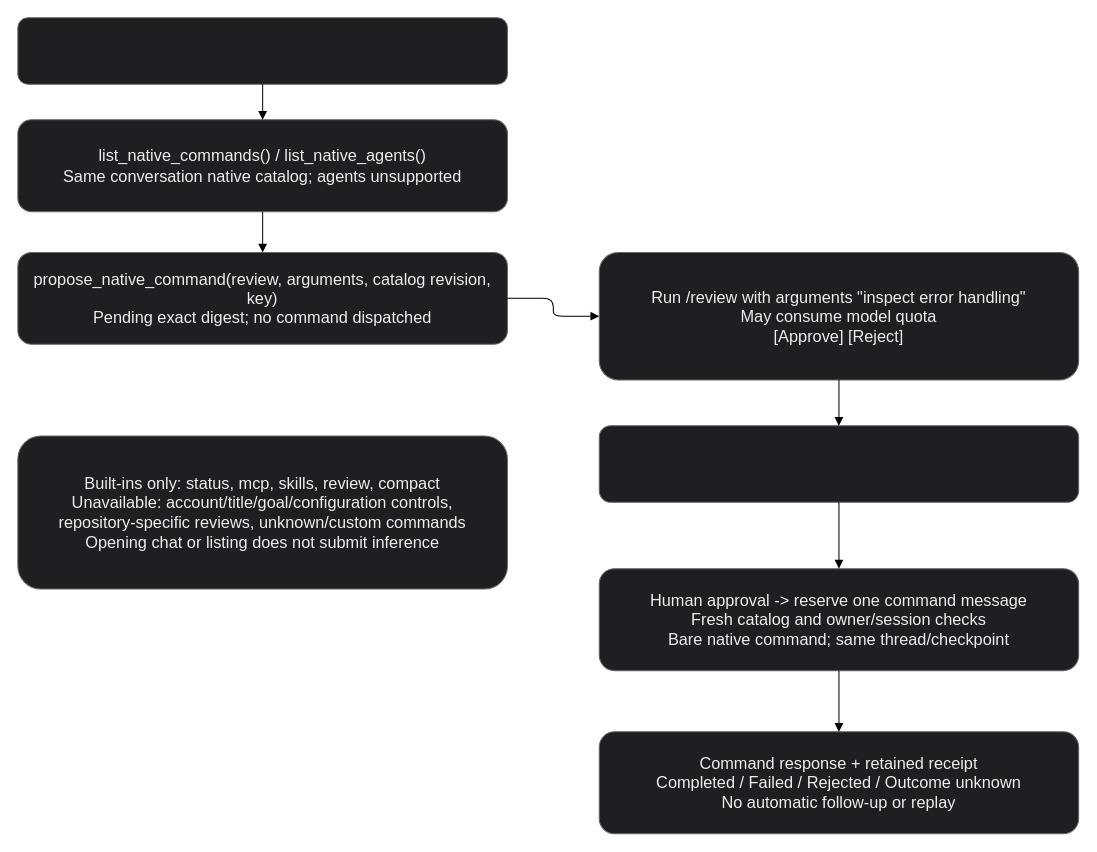
Some shapes in this 1097 by 852 pixel diagram are drawn without their labels. Each missing label, with the box of its shape:
Active chat turn? Keep pending; approve after settlement: (598, 425, 1079, 502)
User asks assistant to inspect native commands: (17, 17, 507, 84)
